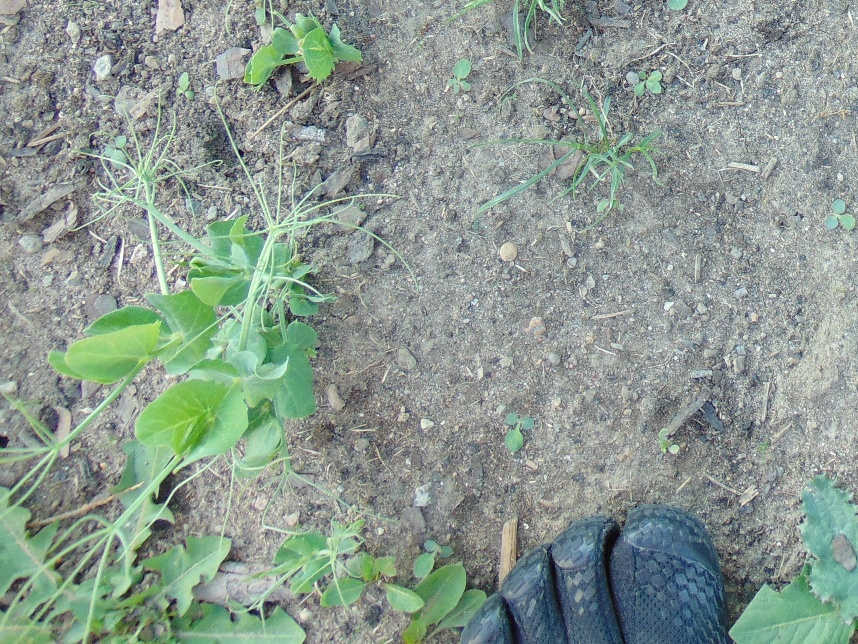crop: (75, 132, 345, 475), (72, 360, 264, 562), (244, 515, 382, 626), (240, 8, 363, 87)
weed: (1, 475, 277, 643), (721, 470, 858, 644), (375, 556, 485, 644), (538, 103, 650, 188), (503, 2, 568, 21), (448, 58, 478, 95), (631, 63, 661, 100), (826, 194, 856, 231), (504, 414, 534, 451)
